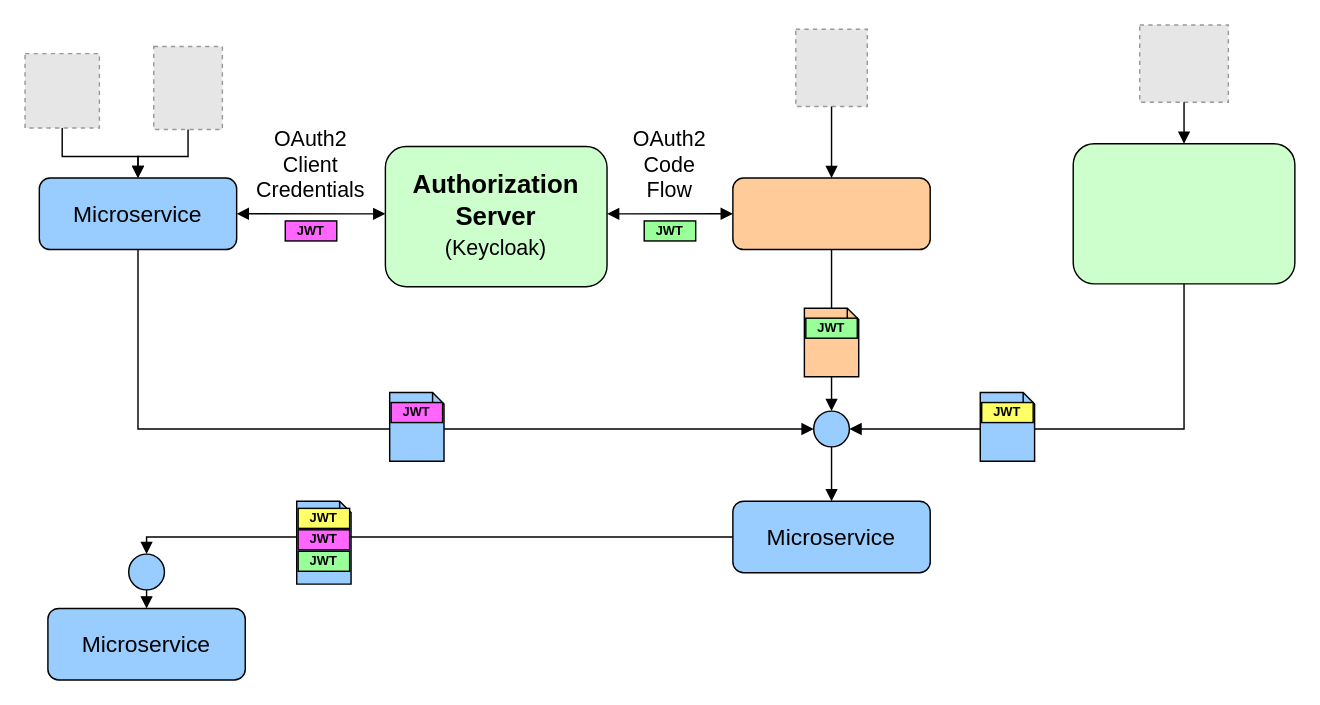
The diagram is 1320 pixels wide and 705 high, and some of its shapes have lost their labels. Grey dashed boxes stand in for pictures. The shapes that lost their labels are listed below. From the top down, each one's centre as x and y in pixels, then its label:
the point at 830,213: UI
the point at 1183,213: API-Gateway
